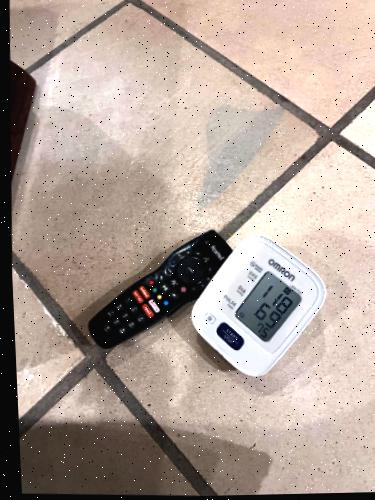bpm: (230, 269, 303, 345)
